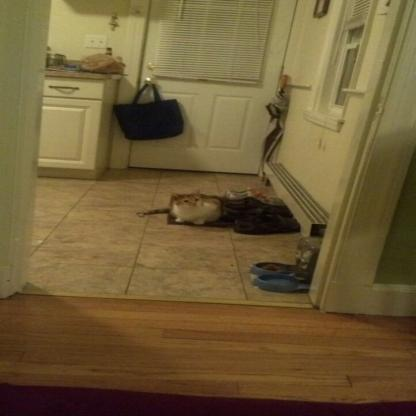Target: (158, 185, 238, 232)
